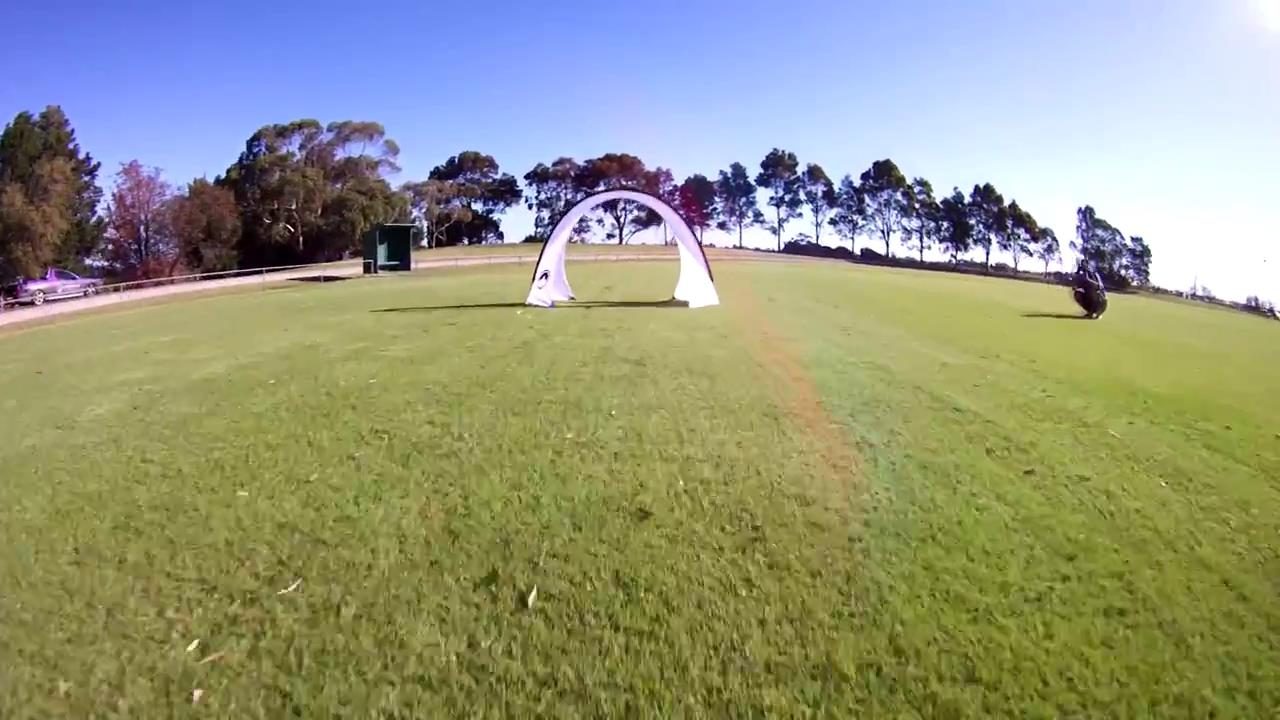gate: (522, 185, 723, 311)
